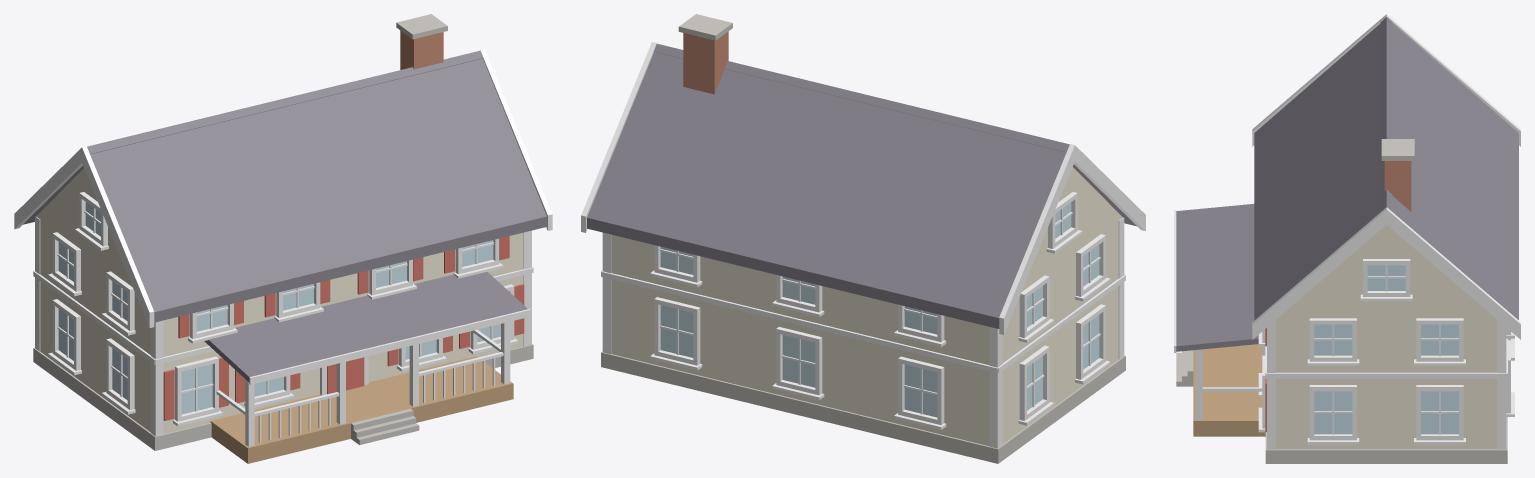
The model's file is farmhouse.glb.
The picture shows the model from 3 angles, left to right: view 1: azimuth 30°, elevation 25°; view 2: azimuth 150°, elevation 25°; view 3: azimuth 270°, elevation 25°; orthographic projection. The views are drawn at different scales.
Visible parts, largest first — view 1: roof_slab, walls, porch_roof, window_frames, porch_deck, window_glass, fascia, shutters, ridge_cap, plinth, corners, porch_rails (+8 smaller); view 2: roof_slab, walls, window_frames, plinth, window_glass, fascia, floor_band, corners, ridge_cap, chimney, window_bars, chimney_cap; view 3: roof_slab, walls, porch_roof, window_frames, fascia, window_glass, porch_deck, plinth, corners, ridge_cap, floor_band, chimney (+5 smaller).
Boxes of the visible parts, x1,y1,x2,y2 form: roof_slab: (23,58,546,322); walls: (36,168,523,433); porch_roof: (204,271,527,382); window_frames: (48,192,518,426); porch_deck: (210,356,513,463); window_glass: (58,202,500,414); fascia: (14,49,552,327); shutters: (163,236,524,420); ridge_cap: (87,50,482,154); plinth: (33,344,533,450); corners: (35,216,531,436); porch_rails: (216,329,503,442); roof_slab: (587,52,1136,328); walls: (611,167,1122,445); window_frames: (650,192,1110,429); plinth: (601,351,1125,463); window_glass: (660,202,1099,417); fascia: (581,42,1145,334); floor_band: (601,270,1125,373); corners: (602,217,1124,448); ridge_cap: (654,43,1069,152); chimney: (683,31,728,94); window_bars: (660,208,1100,414); chimney_cap: (678,14,732,40); roof_slab: (1254,23,1518,320); walls: (1276,225,1497,449); porch_roof: (1176,204,1258,351); window_frames: (1258,259,1514,444); fascia: (1252,14,1520,339); window_glass: (1314,265,1458,434); porch_deck: (1193,344,1265,436); plinth: (1265,417,1507,463); corners: (1267,320,1506,449); ridge_cap: (1380,17,1392,211); floor_band: (1265,338,1507,378); chimney: (1384,161,1411,211).
Size of the model in its own units: 12.14 by 8.54 by 9.11.
